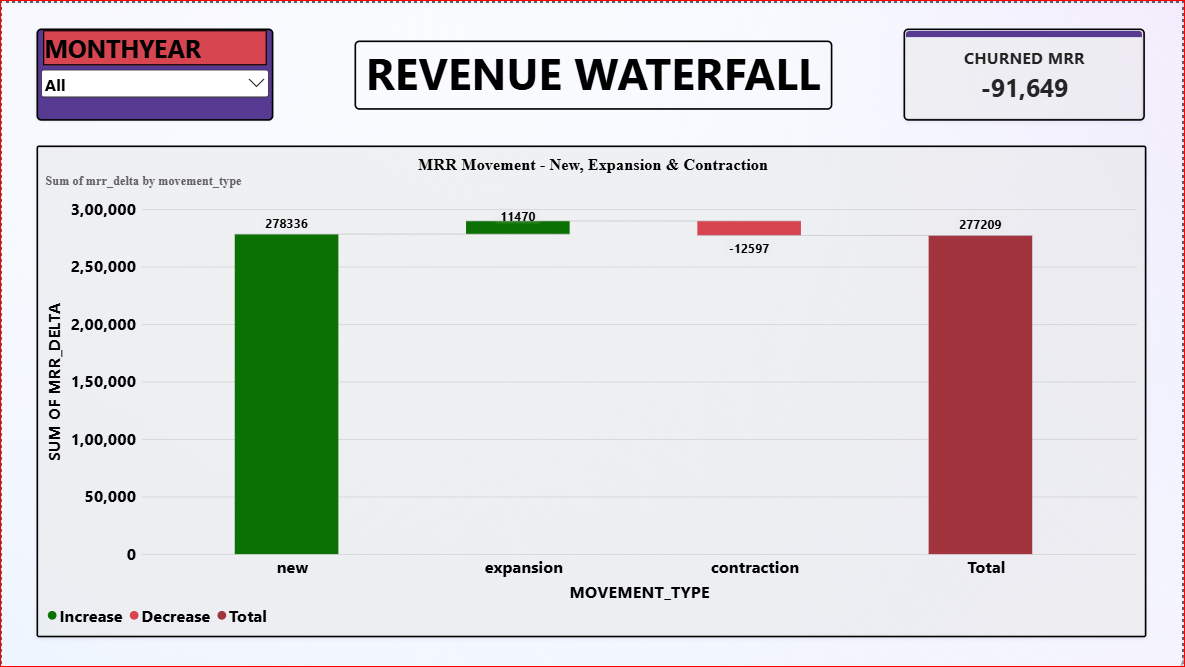

This screenshot's page, from the dashboard's own definition file:
{"tool":"powerbi","page":{"name":"Revenue Waterfall","canvas":[1920,1080],"ordinal":1},"visuals":[{"type":"waterfallChart","title":"MRR Movement - New, Expansion & Contraction","fields":{"Category":["fact_mrr_waterfall.movement_type"],"Y":["Sum(fact_mrr_waterfall.mrr_delta)"]},"box":[55,232.5,1805,800],"z":0},{"type":"slicer","fields":{"Values":["DimDate.MonthYear"]},"box":[55,52.5,320,130],"z":1000},{"type":"cardVisual","fields":{"Data":["fact_churn_by_month.Churned MRR"]},"box":[1467.5,42.5,392.5,150],"z":2000}]}

Visuals, with their boxes in screenshot pixels (x1, y1, x2, y2), scaled from the page's 1920x1080 canvas onto the 1185x667 screenshot:
"MRR Movement - New, Expansion & Contraction" waterfallChart: select_region(34, 144, 1148, 638)
slicer - DimDate.MonthYear: select_region(34, 32, 231, 113)
cardVisual - fact_churn_by_month.Churned MRR: select_region(906, 26, 1148, 119)
